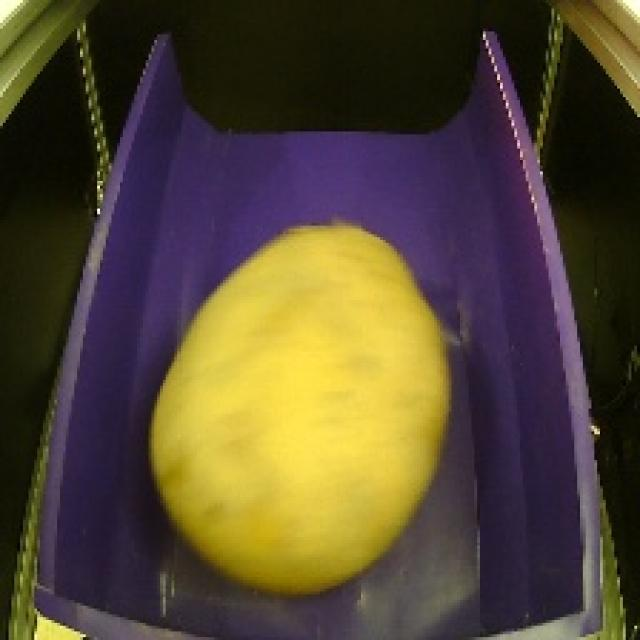full_potato: (140, 208, 461, 612)
